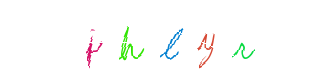H: (117, 0, 197, 80)
J: (110, 0, 190, 80)
L: (121, 0, 201, 80)
R: (132, 0, 212, 80)
Y: (124, 0, 204, 80)
